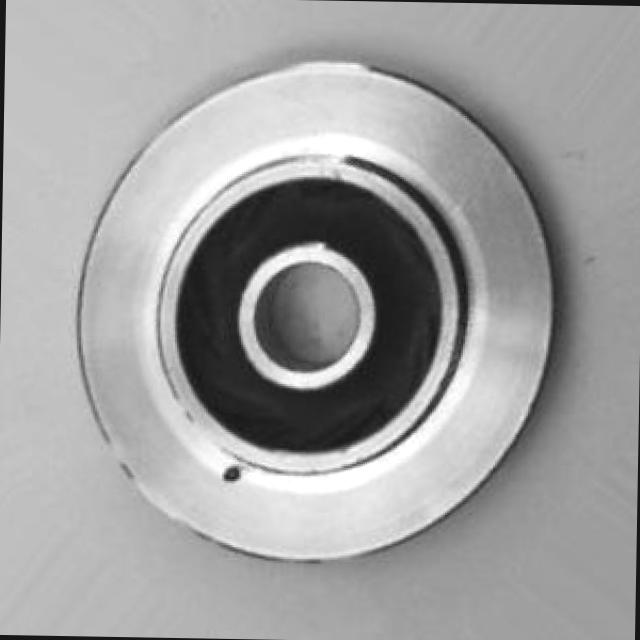Defect: (214, 446, 258, 487)
